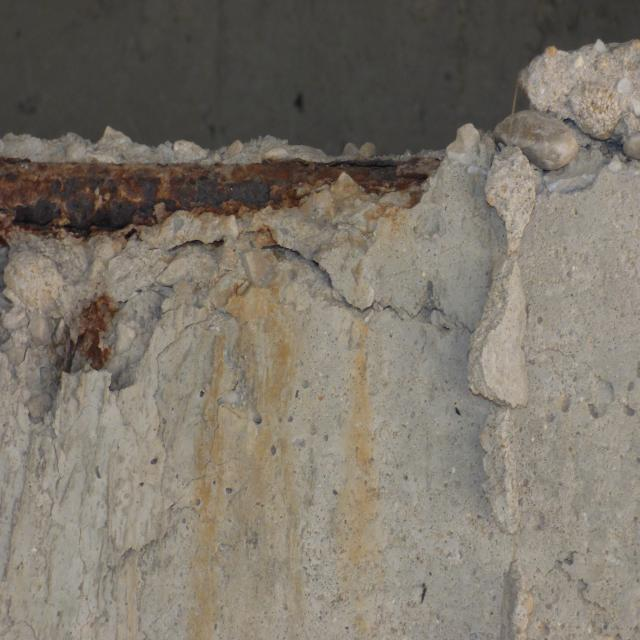corrosion: (171, 276, 403, 631), (0, 136, 454, 247), (51, 272, 142, 386)
